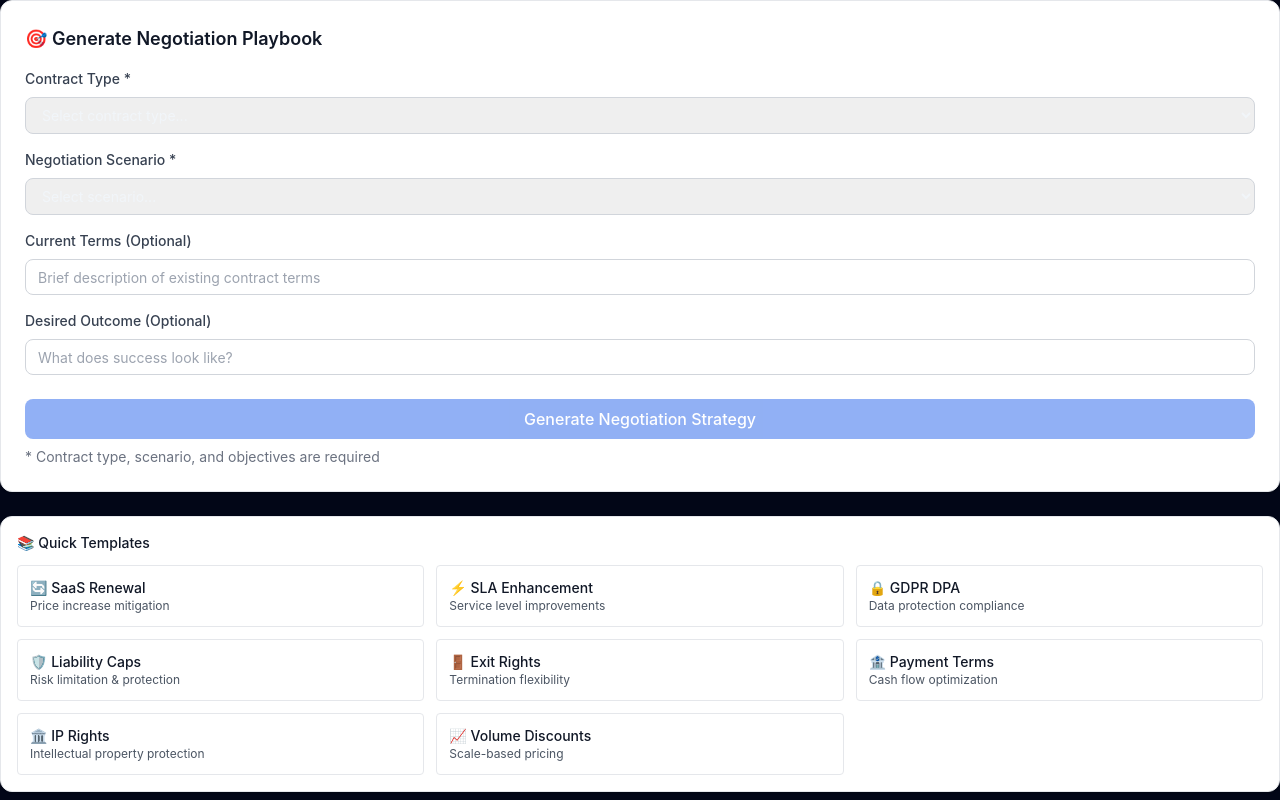
Scenario: PlaybookGenerator › Template Selection › should display objectives for selected scenario
Click the text "⚡ SLA Enhancement" at (521, 588), box [449,579,593,596]
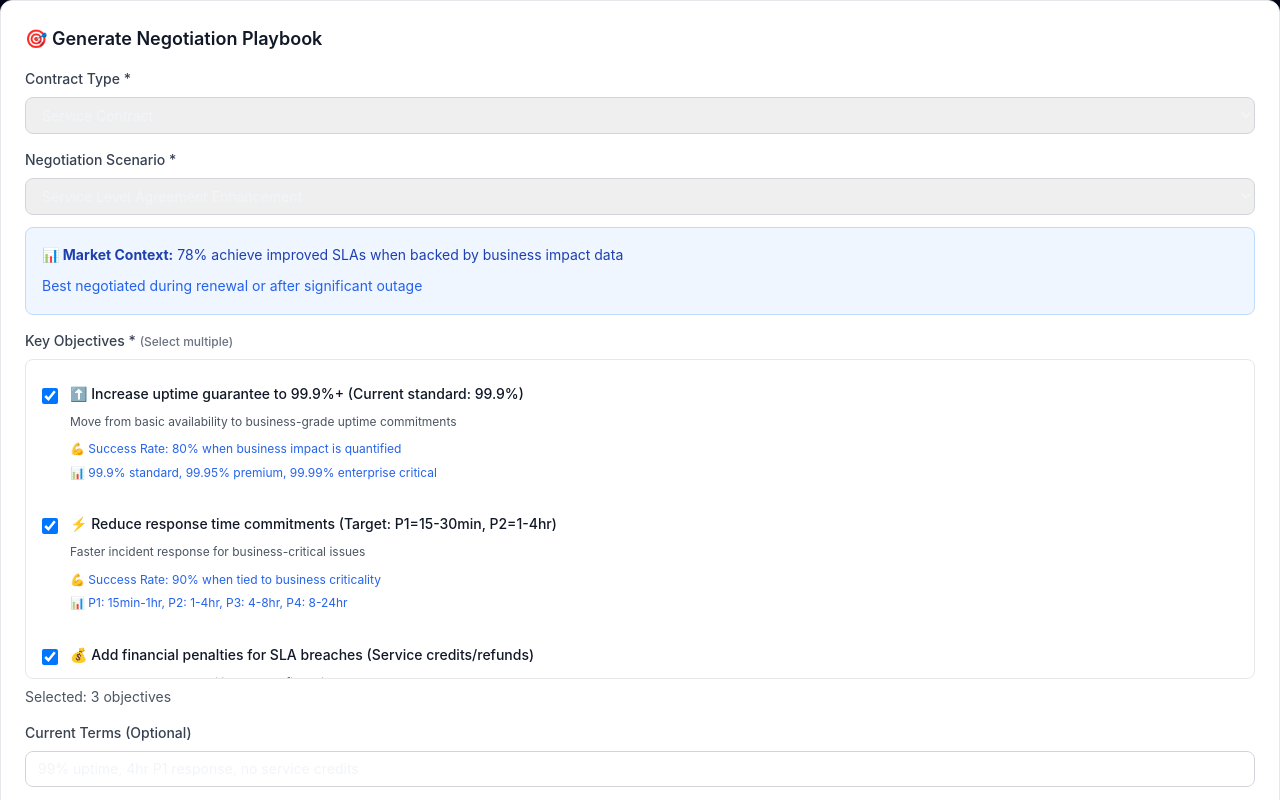
Now the text "⬆️ Increase uptime guarantee to 99.9%+ (Current standard: 99.9%)" is shown, box [70,384,524,402]
Now the text "⚡ Reduce response time commitments (Target: P1=15-30min, P2=1-4hr)" is shown, box [70,515,557,532]
Now the text "💰 Add financial penalties for SLA breaches (Service credits/refunds)" is shown, box [70,646,534,662]
